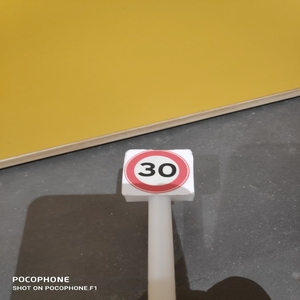30-bord: (125, 149, 190, 192)
